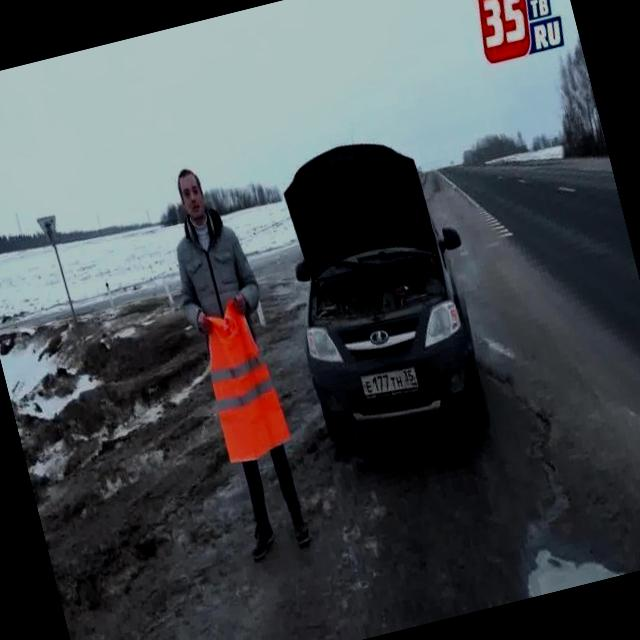vest: (190, 288, 296, 469)
